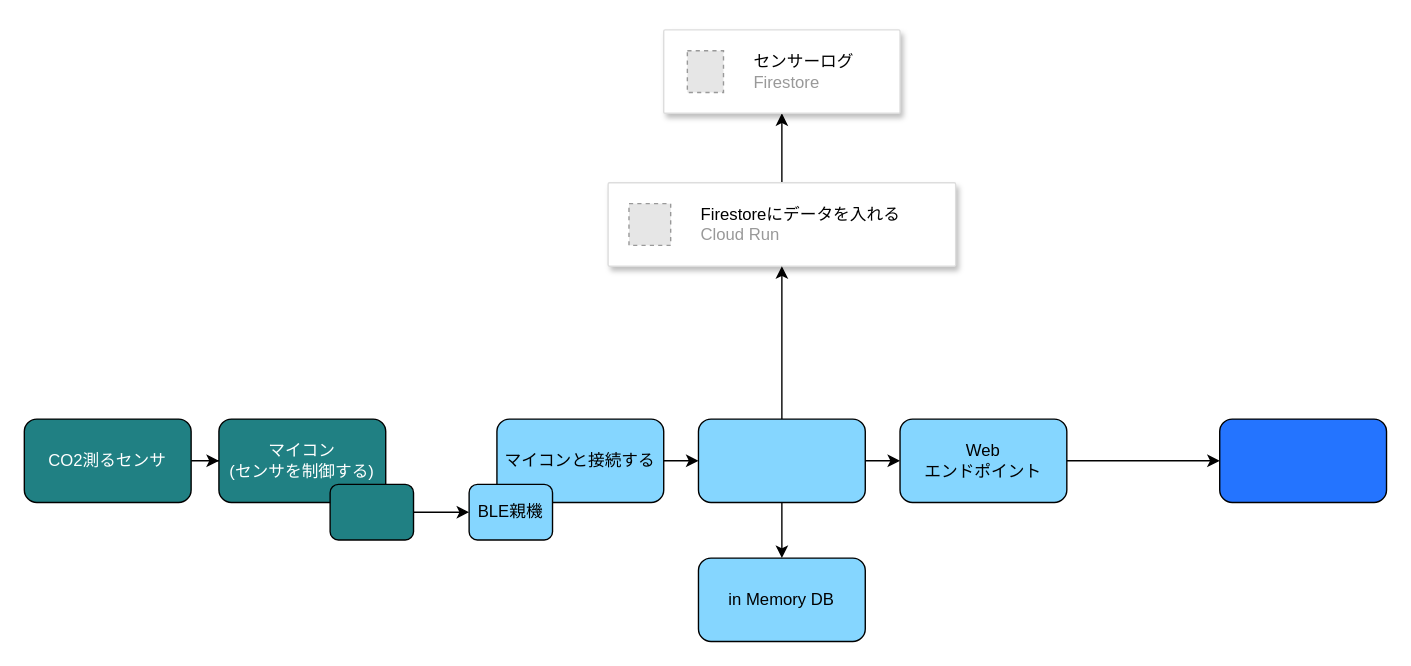
Some shapes in this 1411 by 666 pixel diagram are drawn without their labels. Grey dashed boxes stand in for pictures. The shapes that lost their labels are listed below. From the top down, each one's centre as x and y in pixels, then its label:
At [781,460]: "バックエンド".
At [1302,460]: "ユーザ インターフェース".
At [371,511]: "BLE子機".
